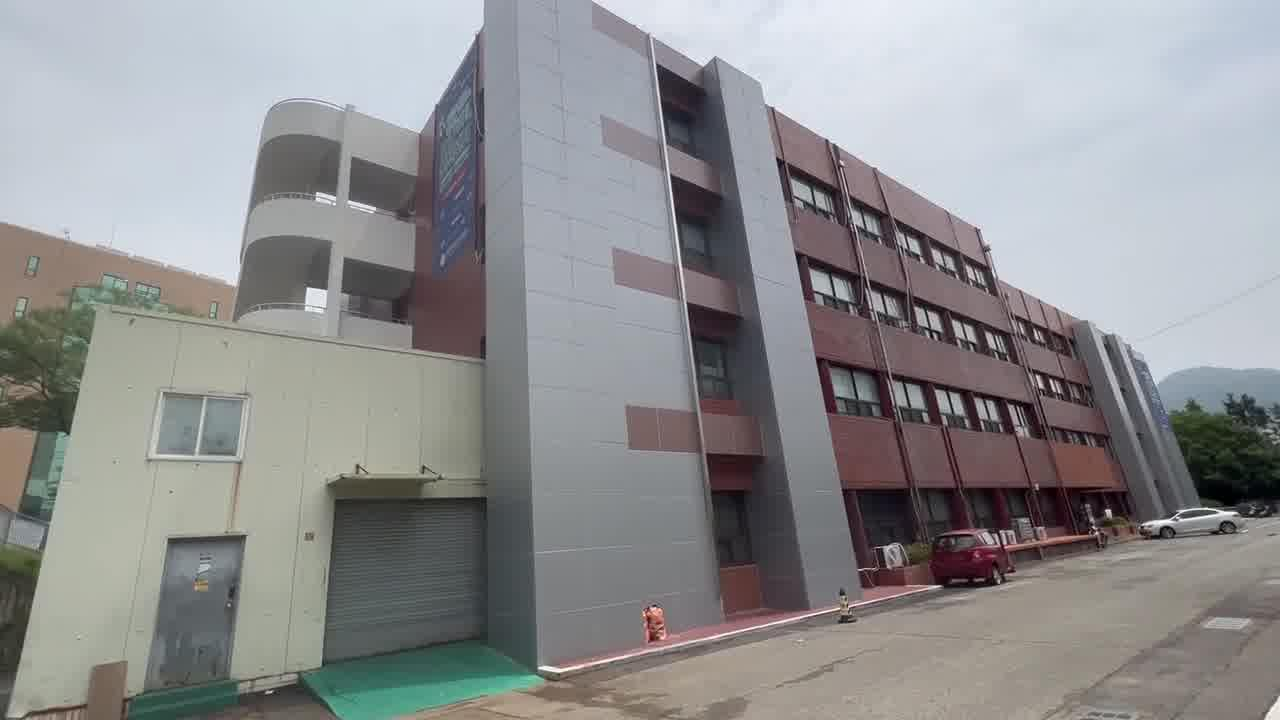building: (204, 31, 1028, 503)
